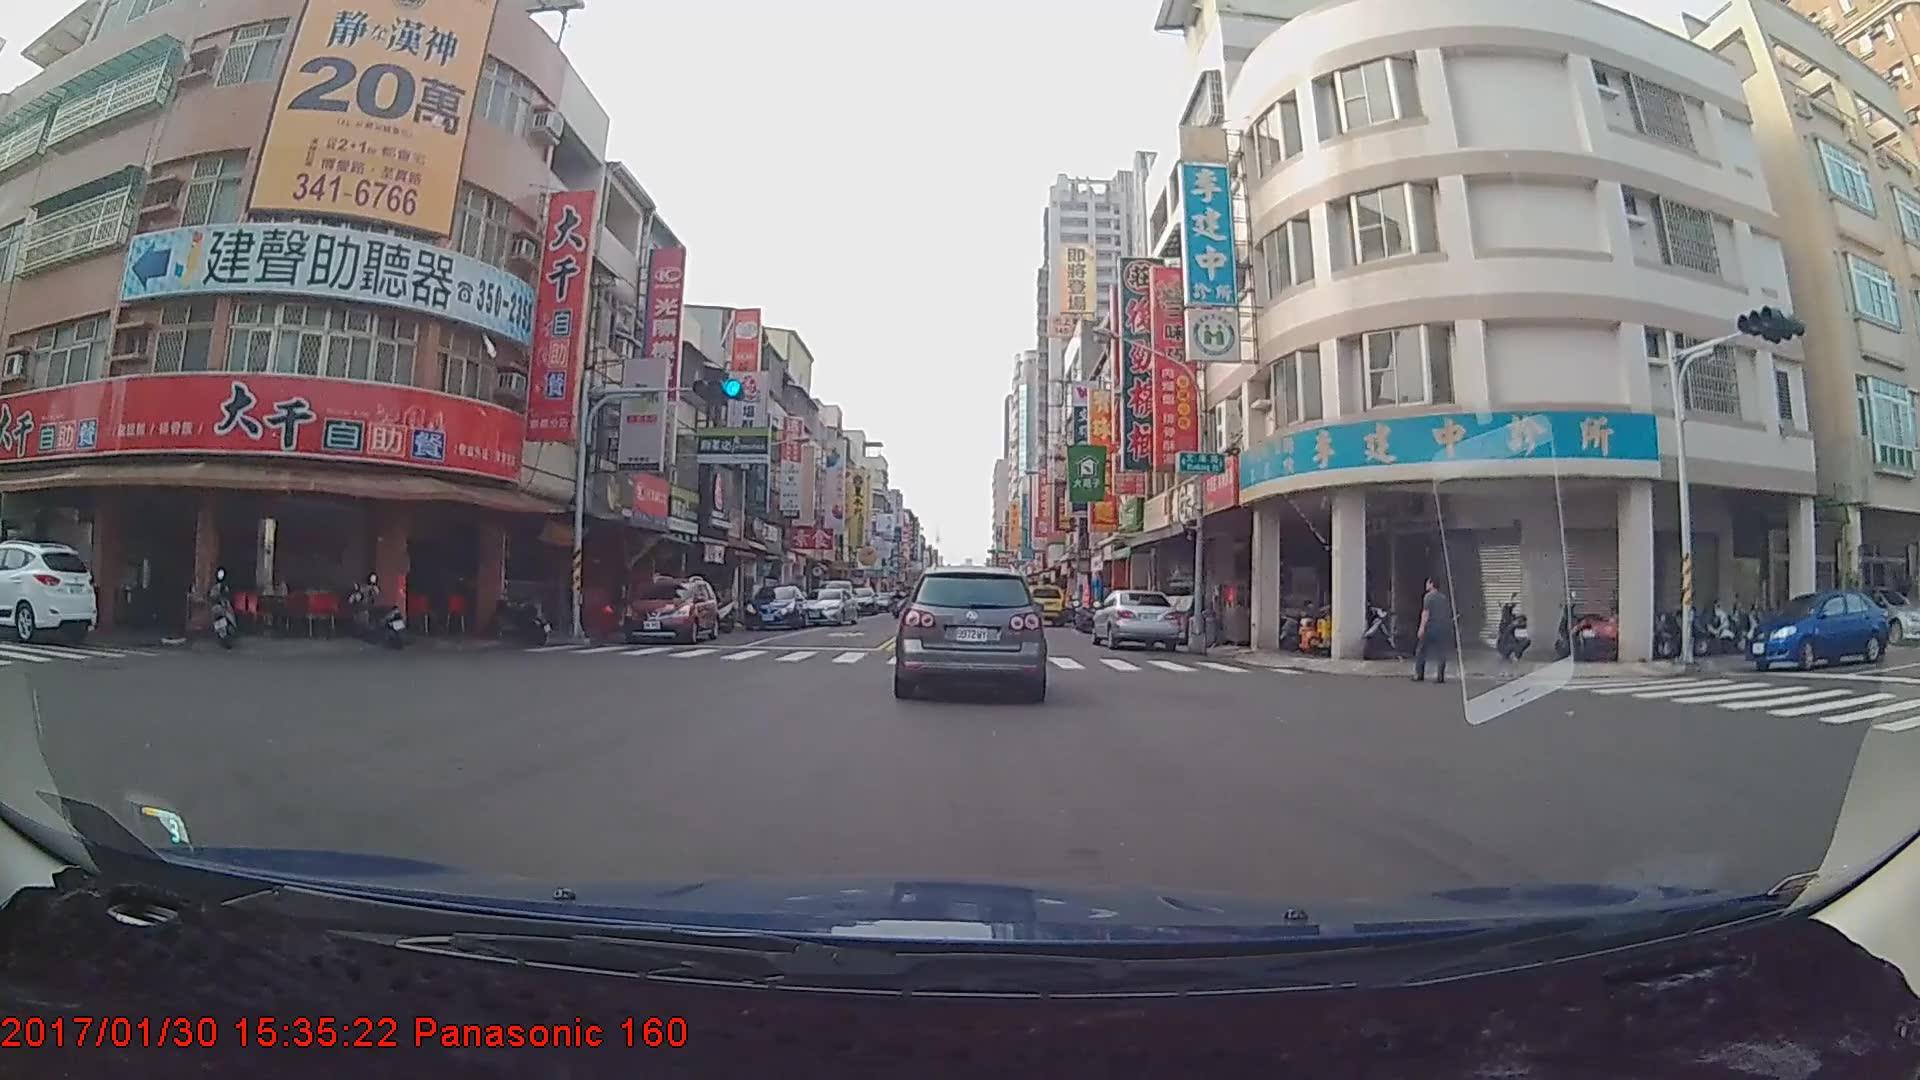pedestrian: (1413, 579, 1454, 689)
vehicle: (895, 566, 1044, 699), (1746, 589, 1889, 670), (0, 539, 97, 644), (1819, 577, 1919, 648), (623, 576, 719, 643), (1091, 590, 1179, 652), (741, 586, 808, 633), (801, 585, 857, 628), (1022, 583, 1067, 628)
